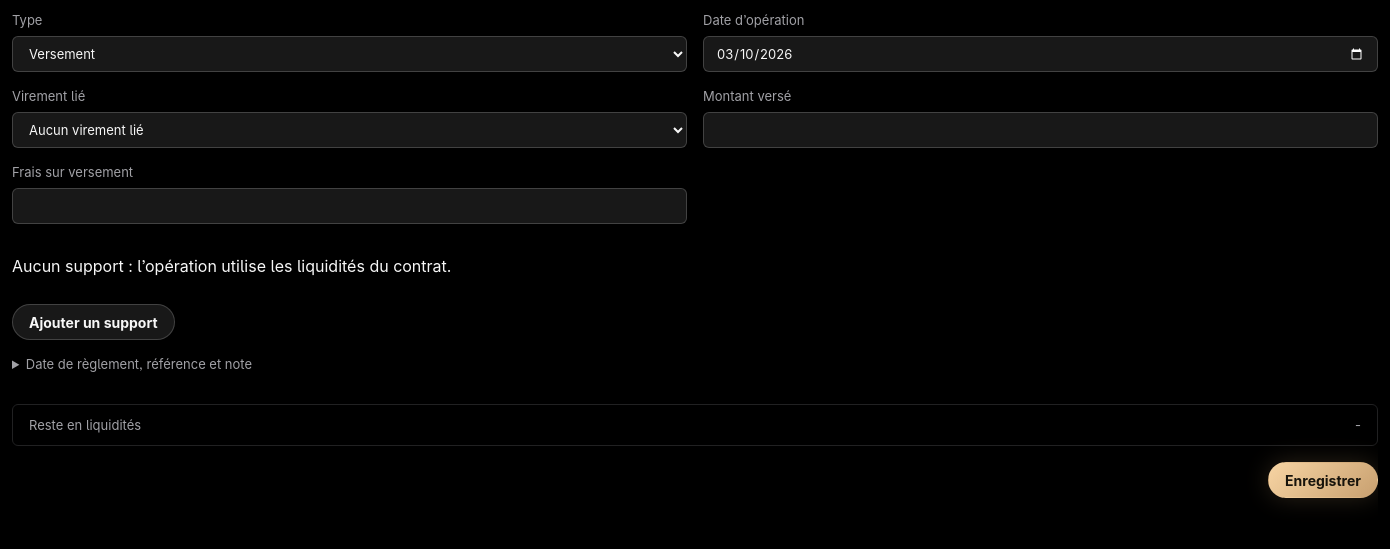
it: OperationForm › shows filtered empty support results without inventing net
The image size is (1390, 549).
Select "Intérêts du fonds en euros" in the dropdown labelled "Type": (350, 54) [12, 36, 687, 72]
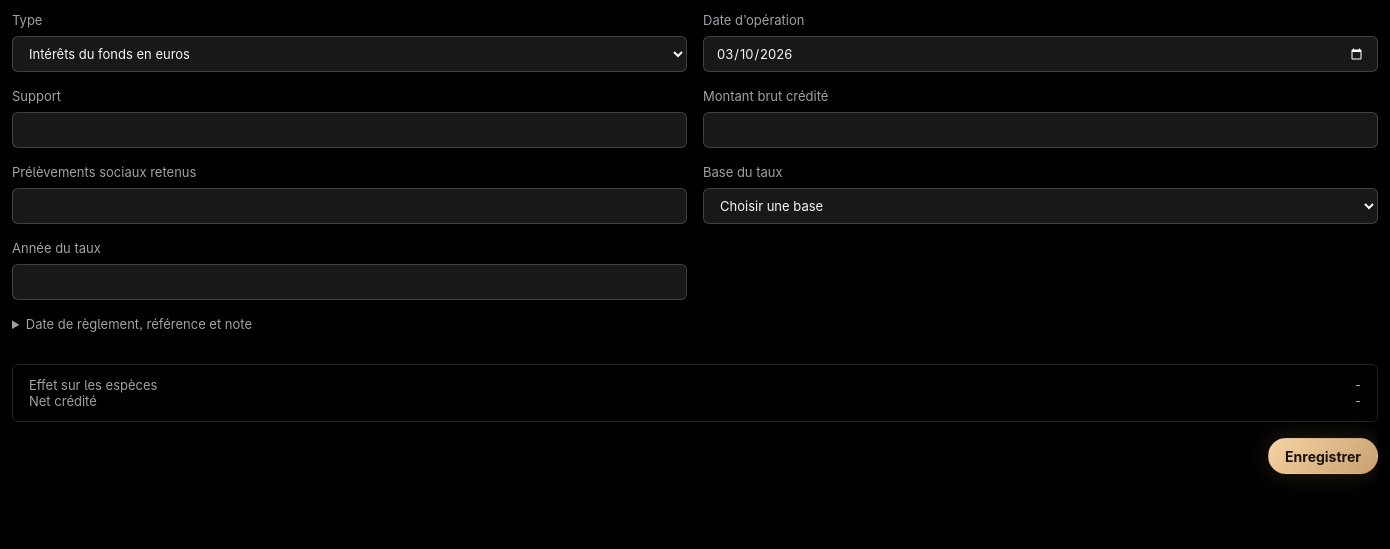
Focus the dropdown labelled "Support": (350, 130) [12, 112, 687, 148]
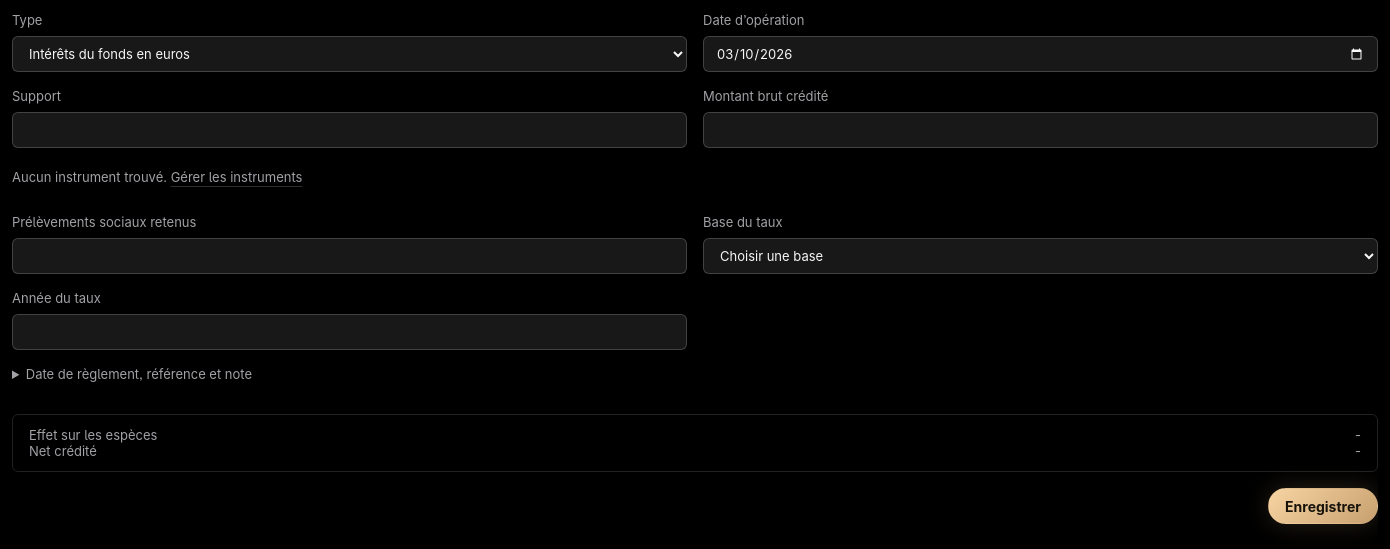
Now the text "Aucun instrument trouvé." is shown, box [12, 169, 167, 185]
